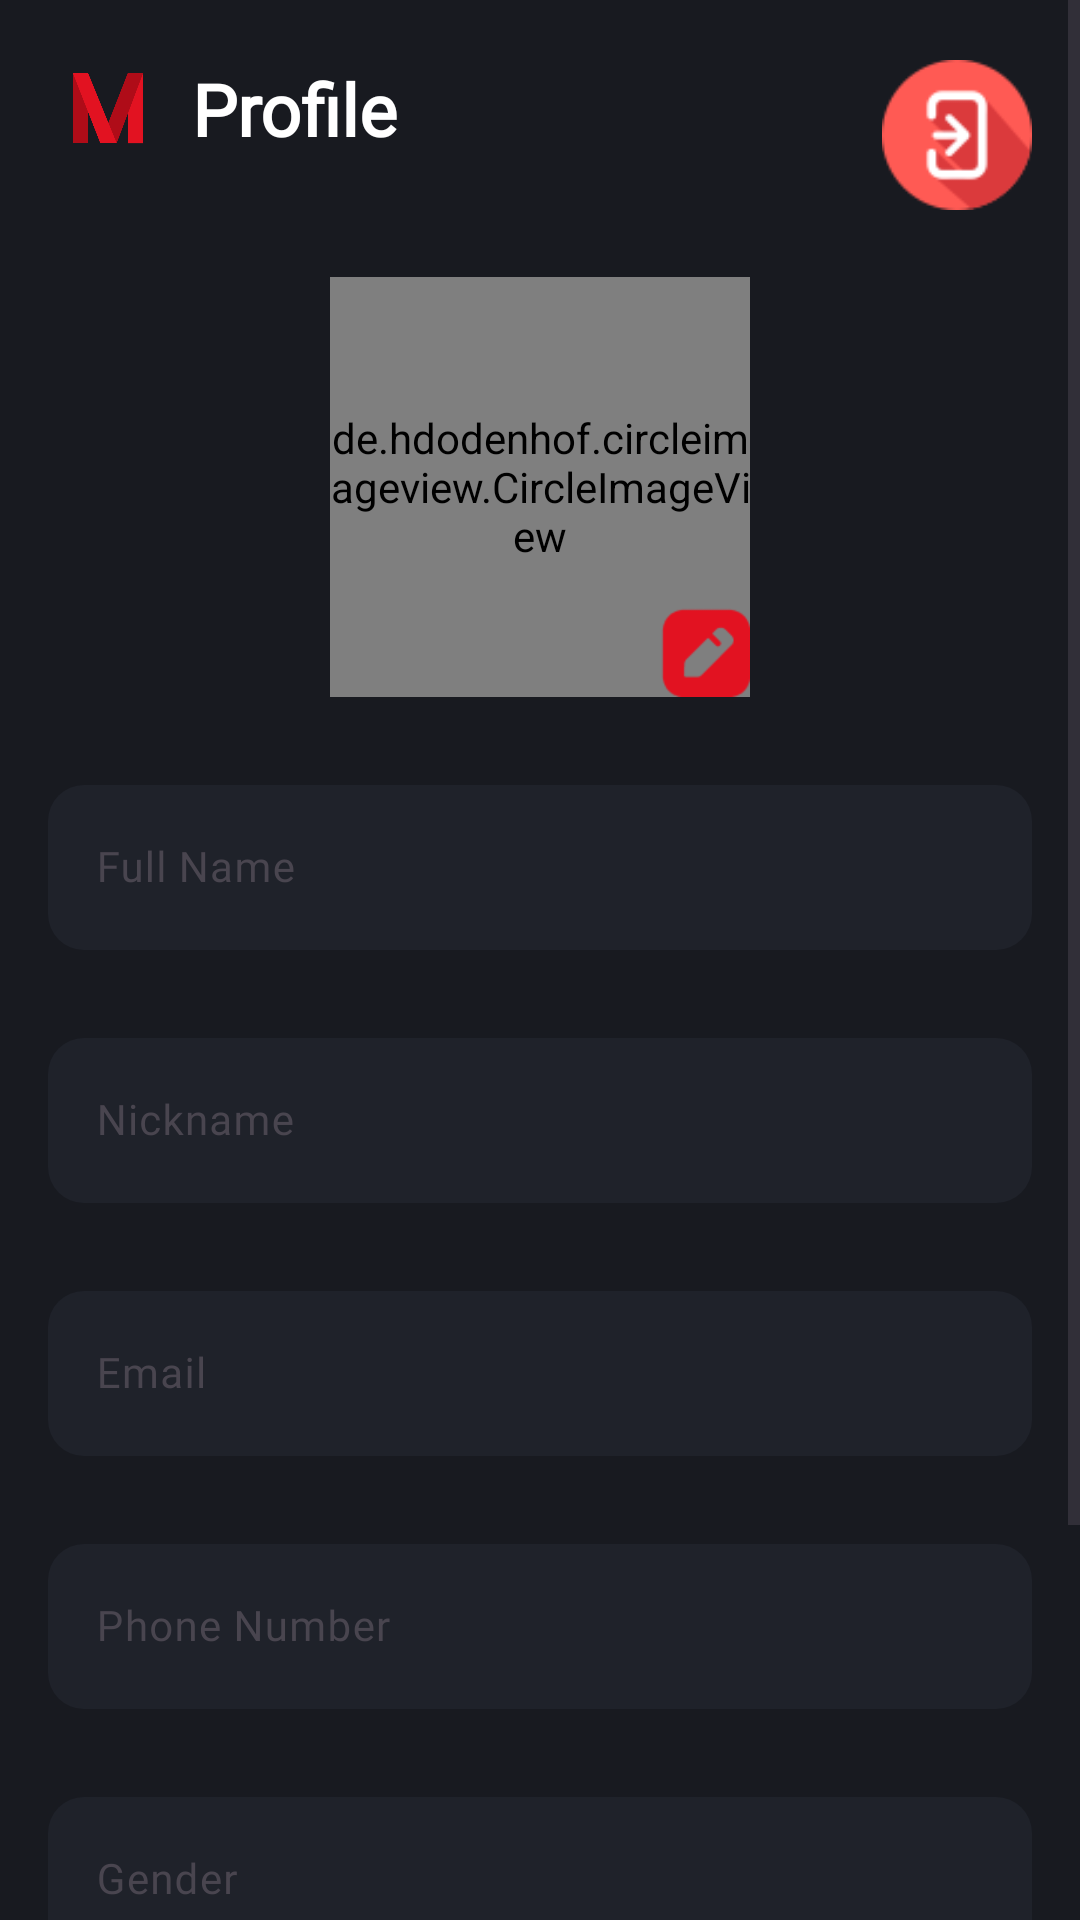

Icons on this 1080w x 1920h Android screen, each with the point to tap as (x,y):
edit: (705,652)
